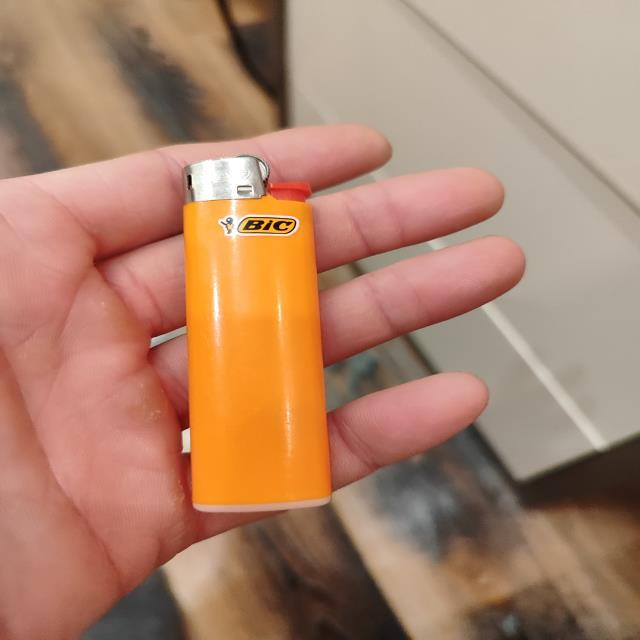lighter: (183, 156, 331, 512)
